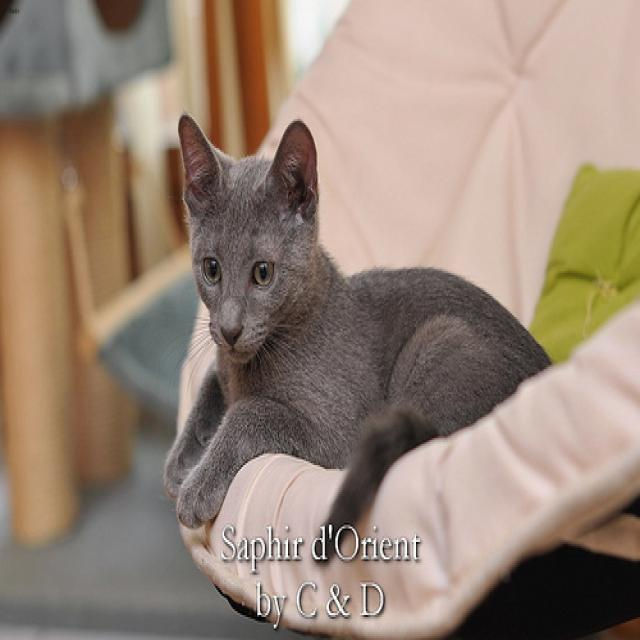Russian_Blue: (178, 110, 327, 366)
